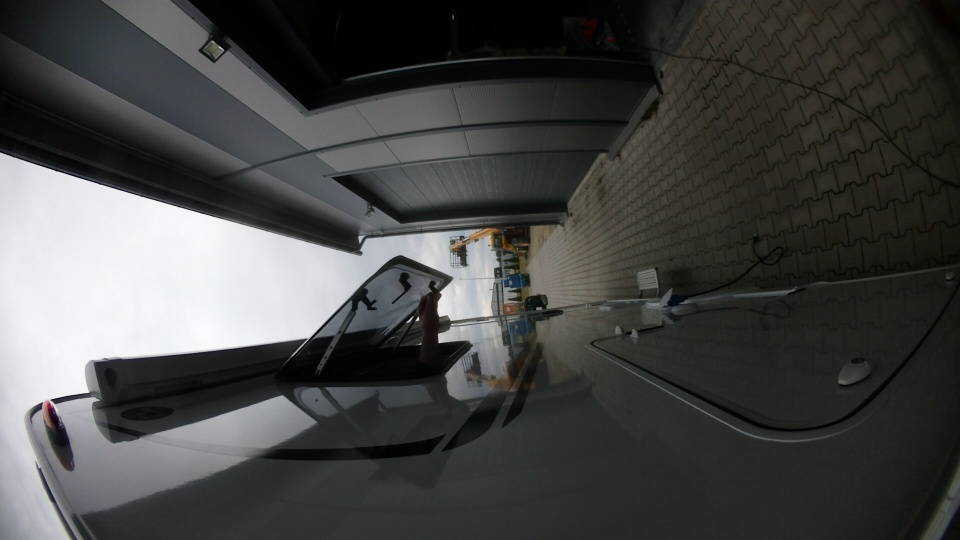step_back: (632, 262, 664, 300)
window_back: (272, 250, 477, 390)
